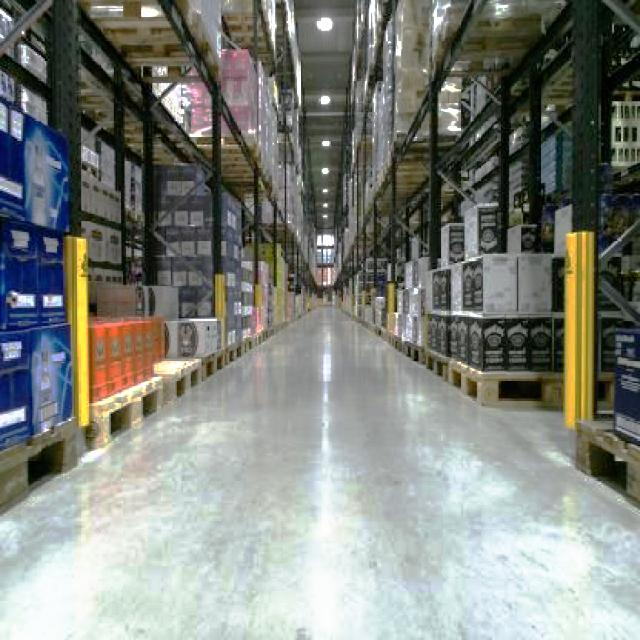ground: (0, 303, 638, 638)
pallet: (335, 0, 638, 637), (338, 203, 638, 411), (85, 300, 318, 449), (572, 323, 638, 591), (572, 412, 638, 542)
